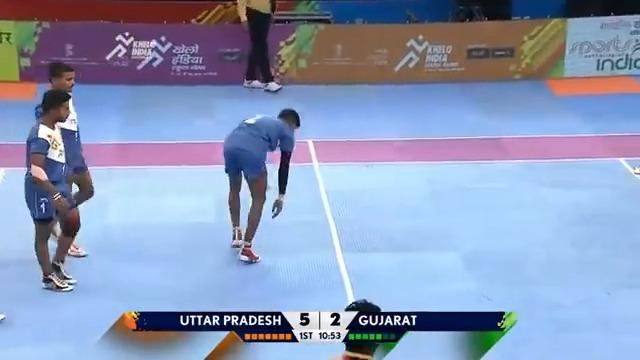Player: (220, 104, 302, 265), (23, 95, 80, 286), (44, 59, 103, 222)
